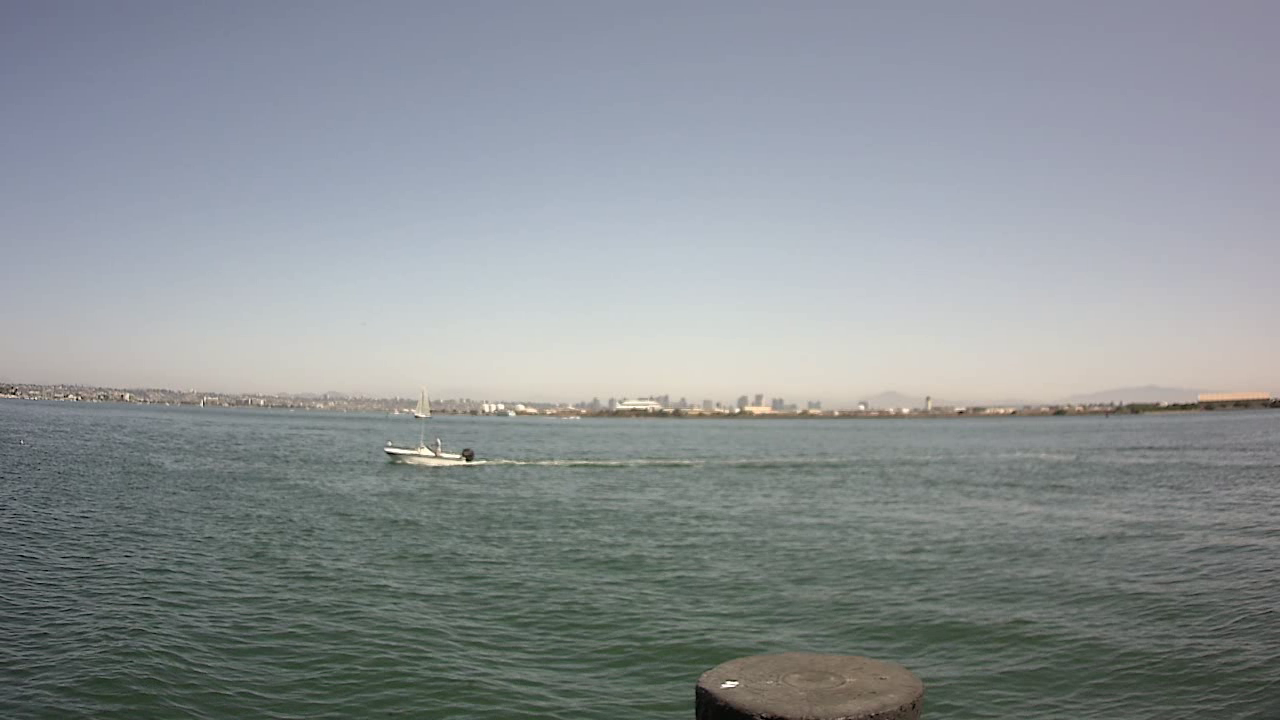target: (375, 427, 493, 480)
